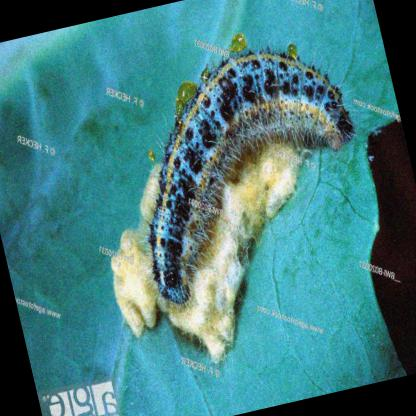pieris: (146, 51, 354, 307)
